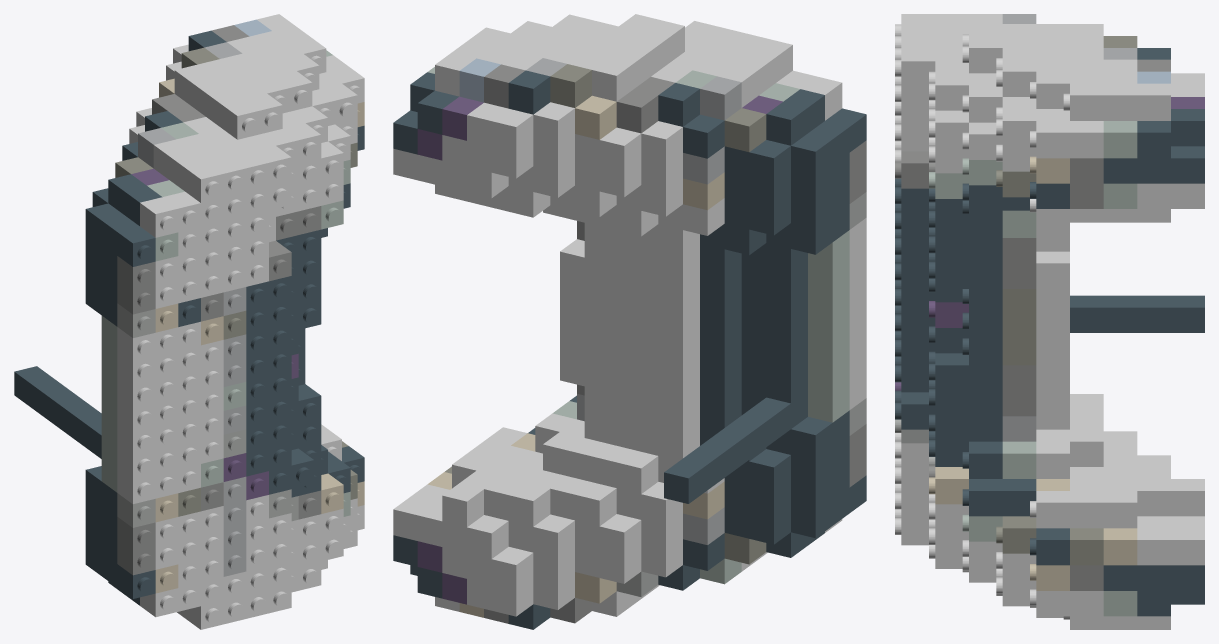
File: full.glb
The picture shows the model from 3 angles, left to right: view 1: azimuth 30°, elevation 25°; view 2: azimuth 150°, elevation 25°; view 3: azimuth 270°, elevation 25°; orthographic projection. The views are drawn at different scales.
Visible parts, largest first — view 1: world; view 2: world; view 3: world.
Part boxes in pixels (<box>): world: <box>14,14,364,629</box>; world: <box>393,14,866,629</box>; world: <box>895,14,1204,629</box>.
Bounding box in the file's own units: 104 × 168 × 88.2.
